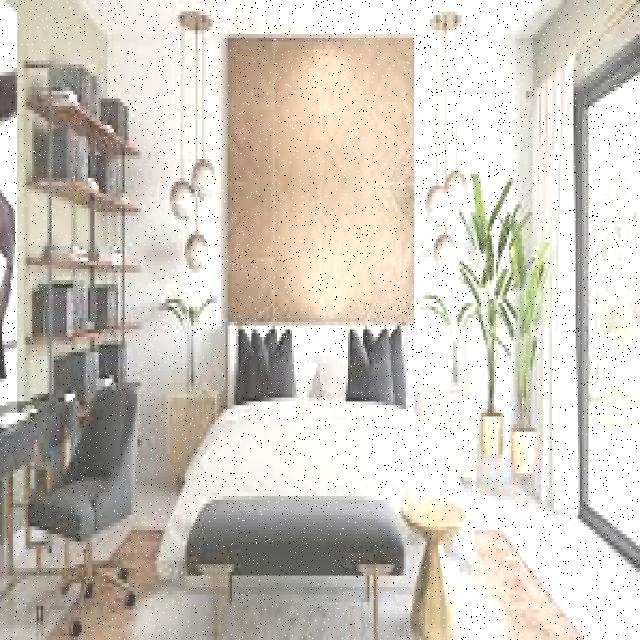bed: (194, 322, 434, 508)
